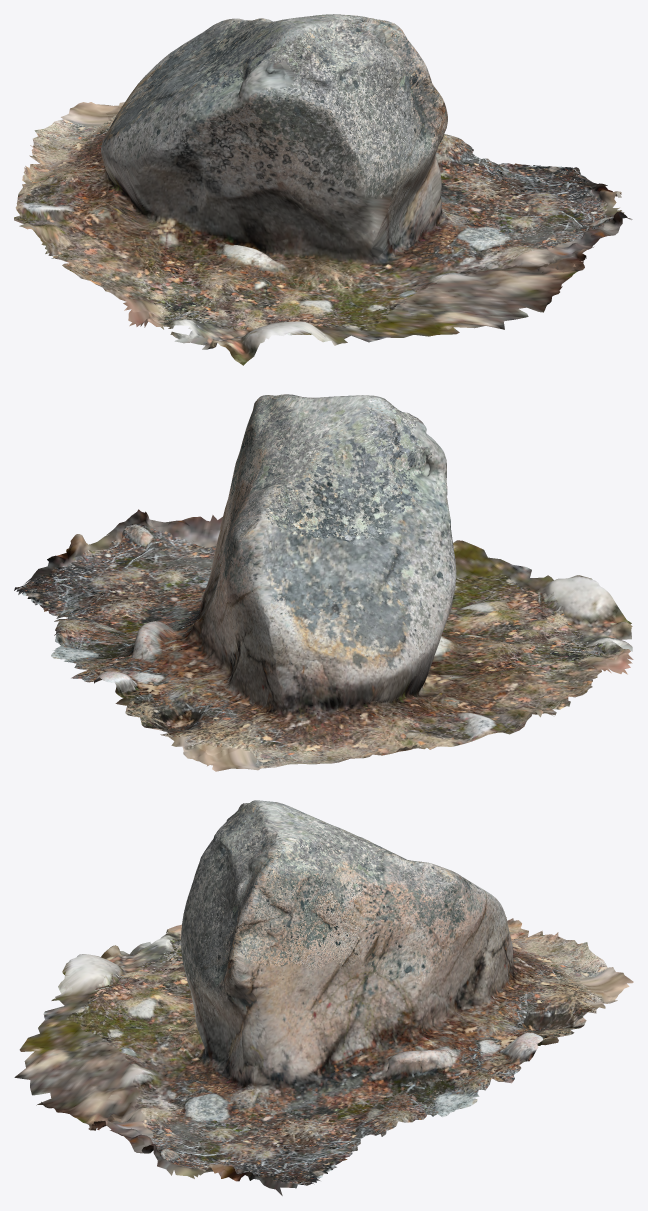
Rendered from abound_20261122-1355.glb.
3 views of the same model, one above another, from view 1: azimuth 30°, elevation 25°; view 2: azimuth 150°, elevation 25°; view 3: azimuth 270°, elevation 25° (orthographic). The views are drawn at different scales.
Visible parts, largest first — view 1: Scene; view 2: Scene; view 3: Scene.
Boxes of the visible parts, x1,y1,x2,y2 form: Scene: (14,14,632,365); Scene: (14,394,633,771); Scene: (14,800,633,1195).
Size of the model in its own units: 4.41 by 1.91 by 4.42.
1 material, 1 textured.
